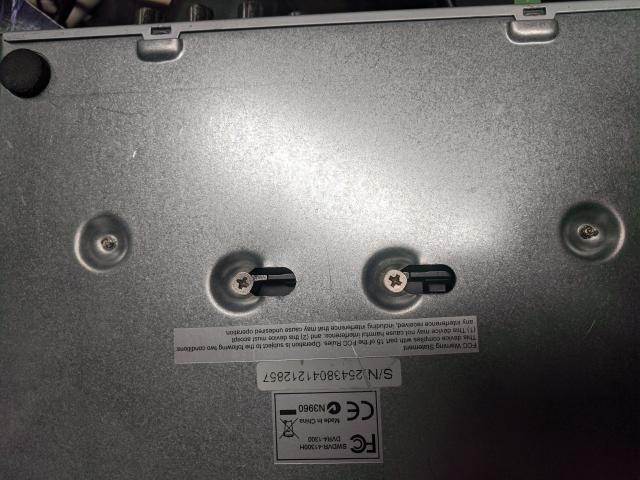CRS: (232, 270, 256, 298), (384, 268, 408, 292)
